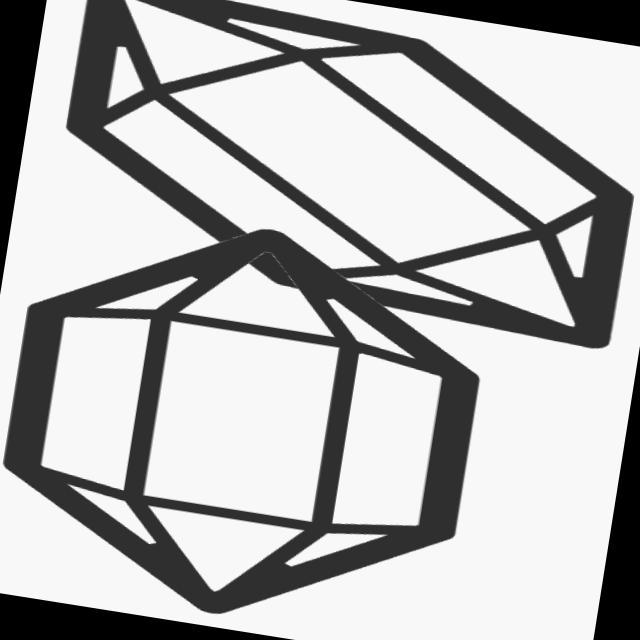crystal: (1, 183, 517, 640), (29, 1, 640, 356)
